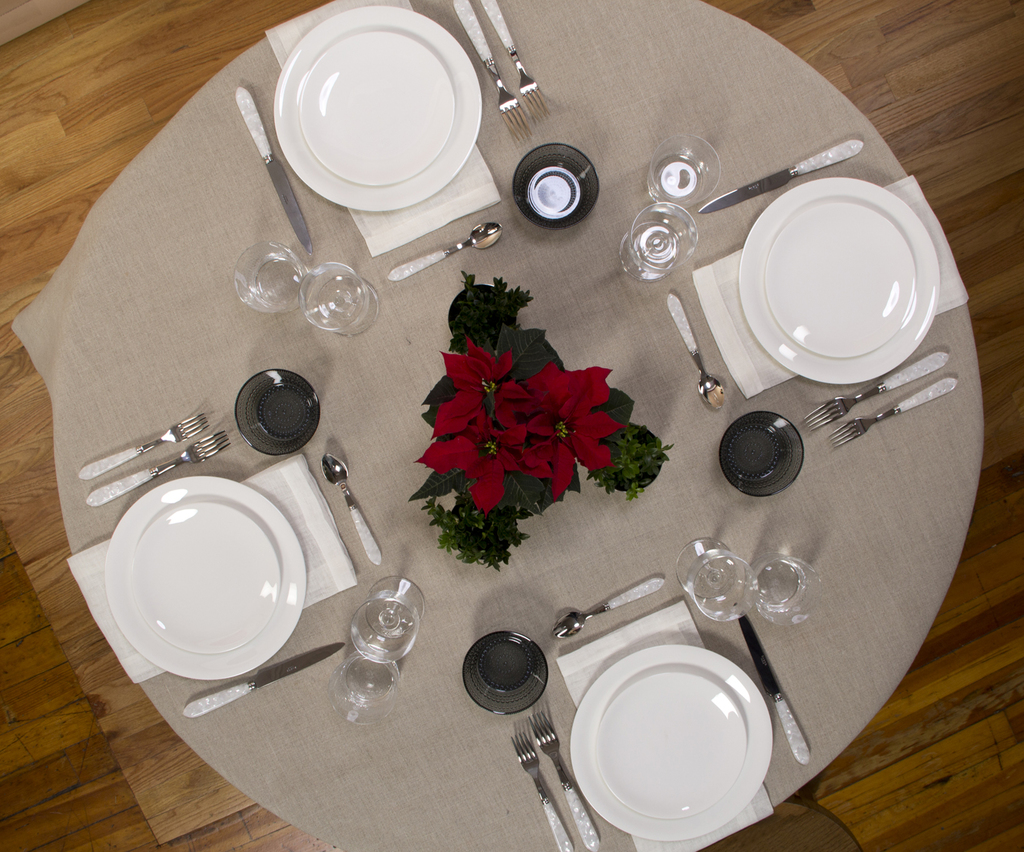plate: (90, 477, 328, 674), (734, 175, 938, 386), (275, 6, 482, 212), (569, 639, 772, 837)
